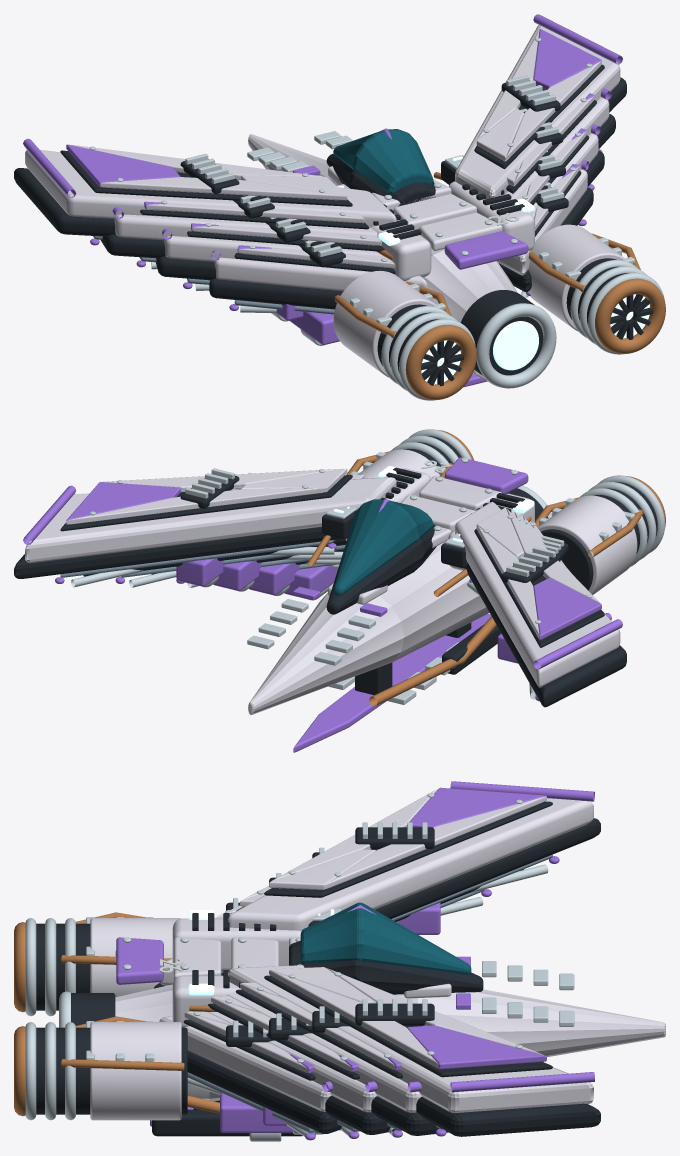
3 renders of one model, top to bottom at view 1: azimuth 30°, elevation 25°; view 2: azimuth 150°, elevation 25°; view 3: azimuth 270°, elevation 25°, orthographic. The views are drawn at different scales.
Parts seen in each view (by area): view 1: SolidHull_26; view 2: SolidHull_26; view 3: SolidHull_26.
Boxes of the visible parts, bbox=[...] form: SolidHull_26: bbox=[14, 14, 665, 400]; SolidHull_26: bbox=[14, 429, 665, 752]; SolidHull_26: bbox=[14, 781, 665, 1141].
Size of the model in its own units: 3.73 by 1.17 by 3.28.
